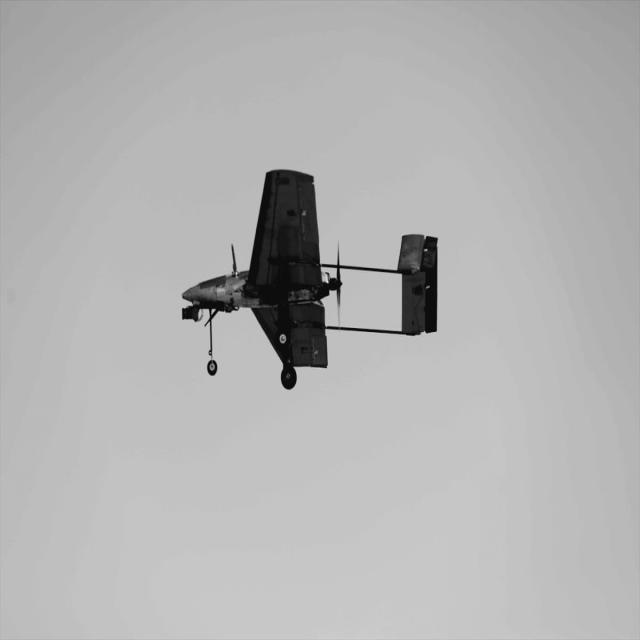iha: (182, 170, 437, 389)
